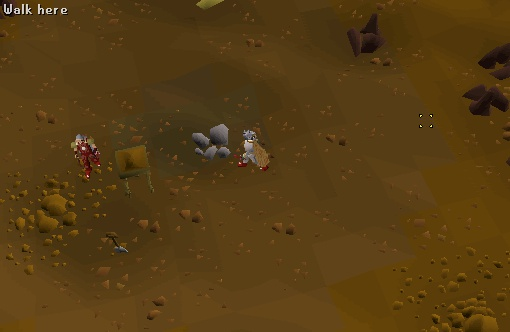iron: (338, 9, 395, 64)
